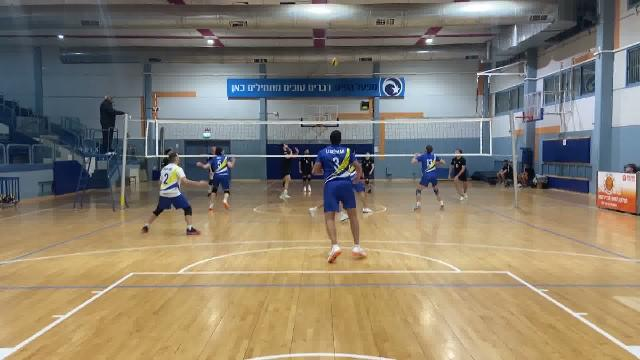ball: (329, 56, 341, 66)
